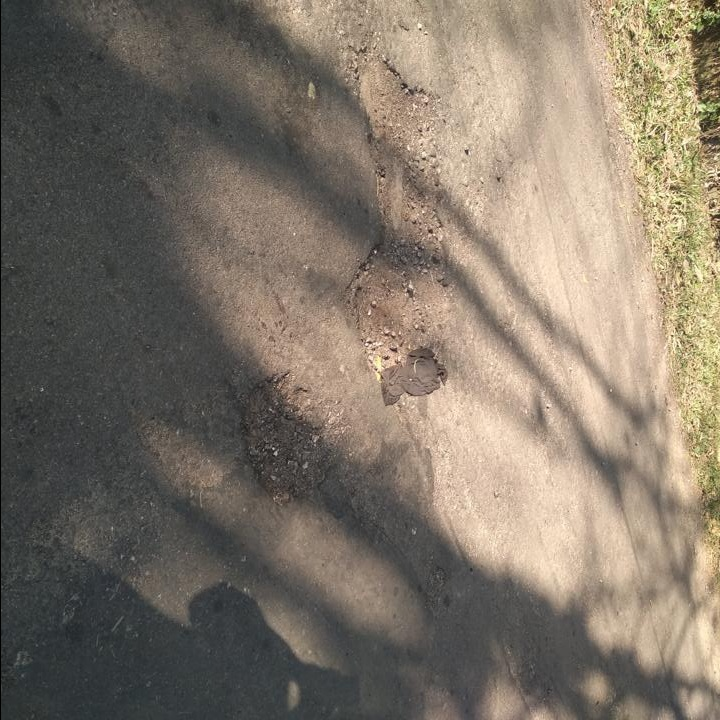pothole: (339, 40, 456, 386), (240, 365, 335, 507)
